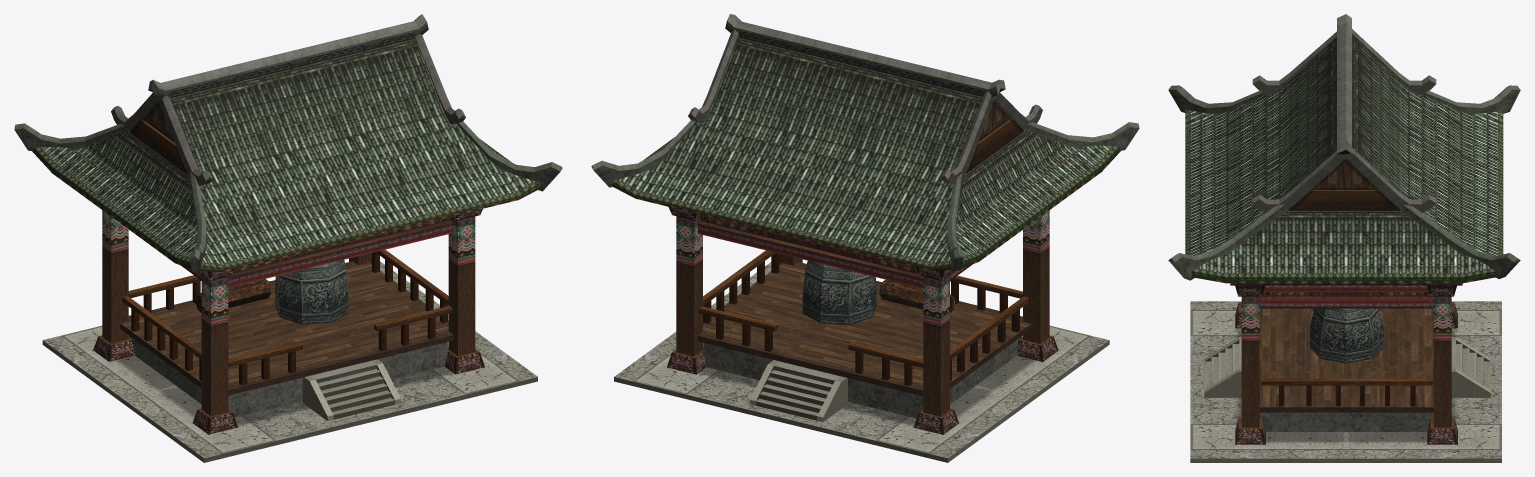
File: c1-landmark-01-bellhouse.fbx
3 views of the same model, side by side, from view 1: azimuth 30°, elevation 25°; view 2: azimuth 150°, elevation 25°; view 3: azimuth 270°, elevation 25° (orthographic). The views are drawn at different scales.
Parts seen in each view (by area): view 1: bell; view 2: bell; view 3: bell.
Boxes of the visible parts, x1=… form: bell: x1=14, y1=14, x2=562, y2=462; bell: x1=591, y1=14, x2=1139, y2=462; bell: x1=1168, y1=14, x2=1520, y2=462.
Bounding box in the file's own units: 12.97 × 10.56 × 11.03.
